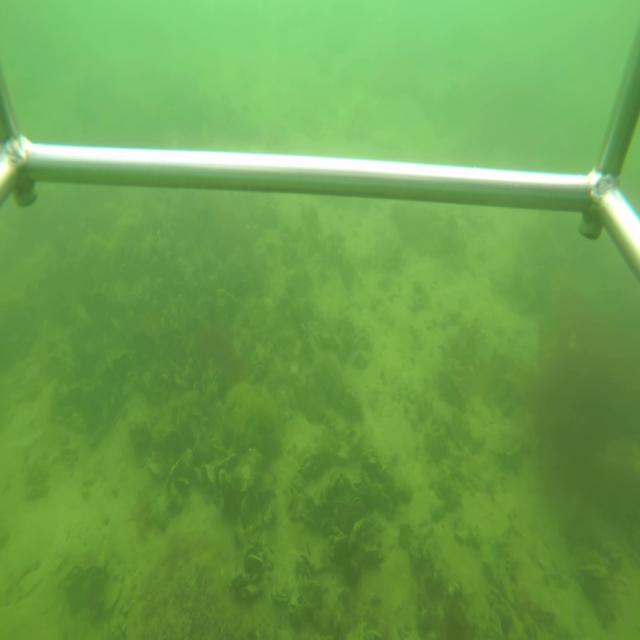Oyster-Indeterminate: (147, 451, 170, 482)
